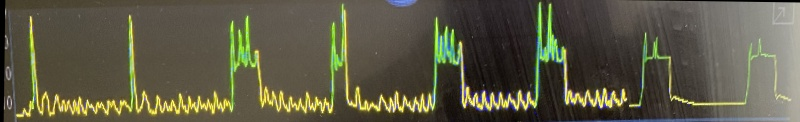hydrop_pressure: (9, 0, 791, 122)
